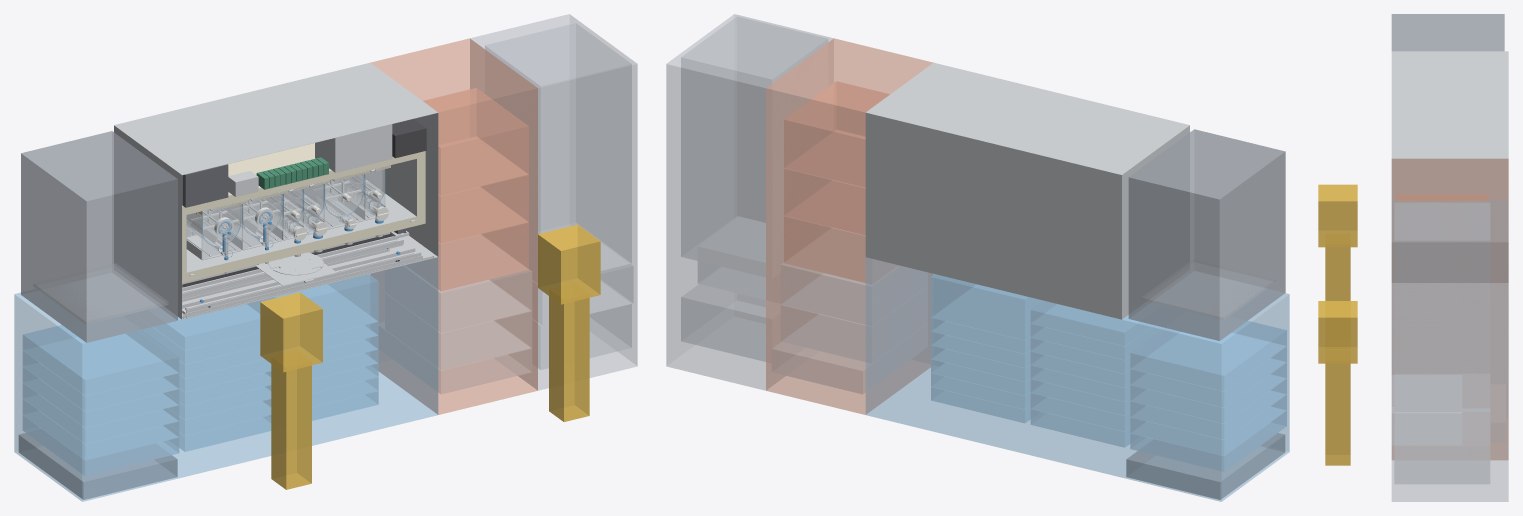
Rendered from hat_v18.glb.
3 views of the same model, side by side, from view 1: azimuth 30°, elevation 25°; view 2: azimuth 150°, elevation 25°; view 3: azimuth 270°, elevation 25° (orthographic). The views are drawn at different scales.
Parts seen in each view (by area): view 1: B_KABIN, TOPPING_MODUL__sac, D_KABIN, E_KABIN, PRESS, E_SARJOR, FIRIN_3, CEK_K1_hamur_6, TOPPING_MODUL__pu, B_SOGUTMA, ROBOT_2, ROBOT_1 (+42 smaller); view 2: B_KABIN, TOPPING_MODUL__sac, D_KABIN, E_KABIN, PRESS, E_SARJOR, FIRIN_3, CEK_K1_hamur_6, B_SOGUTMA, E_MEK, PRESS_PLAKA, CEK_K3_icecek_1 (+25 smaller); view 3: E_KABIN, TOPPING_MODUL__sac, E_SARJOR, D_KABIN, E_MEK, PRESS, ROBOT_2, ROBOT_1_KOL, ROBOT_2_KOL, E_AGZ, ROBOT_1, FIRIN_3.
Part boxes in pixels (x1,y1,x2,y2): B_KABIN: (14,257,438,501); TOPPING_MODUL__sac: (114,62,438,319); D_KABIN: (370,38,537,414); E_KABIN: (470,14,637,390); PRESS: (21,131,177,342); E_SARJOR: (485,23,631,270); FIRIN_3: (423,88,528,195); CEK_K1_hamur_6: (23,325,178,395); TOPPING_MODUL__pu: (182,143,425,282); B_SOGUTMA: (18,429,177,499); ROBOT_2: (549,283,589,421); ROBOT_1: (271,351,311,489); B_KABIN: (865,257,1289,501); TOPPING_MODUL__sac: (865,62,1189,319); D_KABIN: (766,38,933,414); E_KABIN: (666,14,833,390); PRESS: (1128,129,1285,340); E_SARJOR: (681,16,827,277); FIRIN_3: (784,81,889,187); CEK_K1_hamur_6: (1130,321,1286,391); B_SOGUTMA: (1126,429,1285,499); E_MEK: (681,284,765,361); PRESS_PLAKA: (1141,259,1275,320); CEK_K3_icecek_1: (931,274,1042,339); E_KABIN: (1391,200,1508,501); TOPPING_MODUL__sac: (1391,51,1508,282); E_SARJOR: (1394,203,1489,411); D_KABIN: (1392,158,1508,459); E_MEK: (1394,412,1489,483); PRESS: (1391,14,1504,51); ROBOT_2: (1325,363,1350,465); ROBOT_1_KOL: (1318,184,1357,247); ROBOT_2_KOL: (1318,301,1357,363); E_AGZ: (1392,375,1461,444); ROBOT_1: (1325,234,1350,300); FIRIN_3: (1397,195,1487,200).
Bounding box in the file's own units: 3.9 × 2.03 × 1.35.
Materials: 97 (18 with a texture image).
